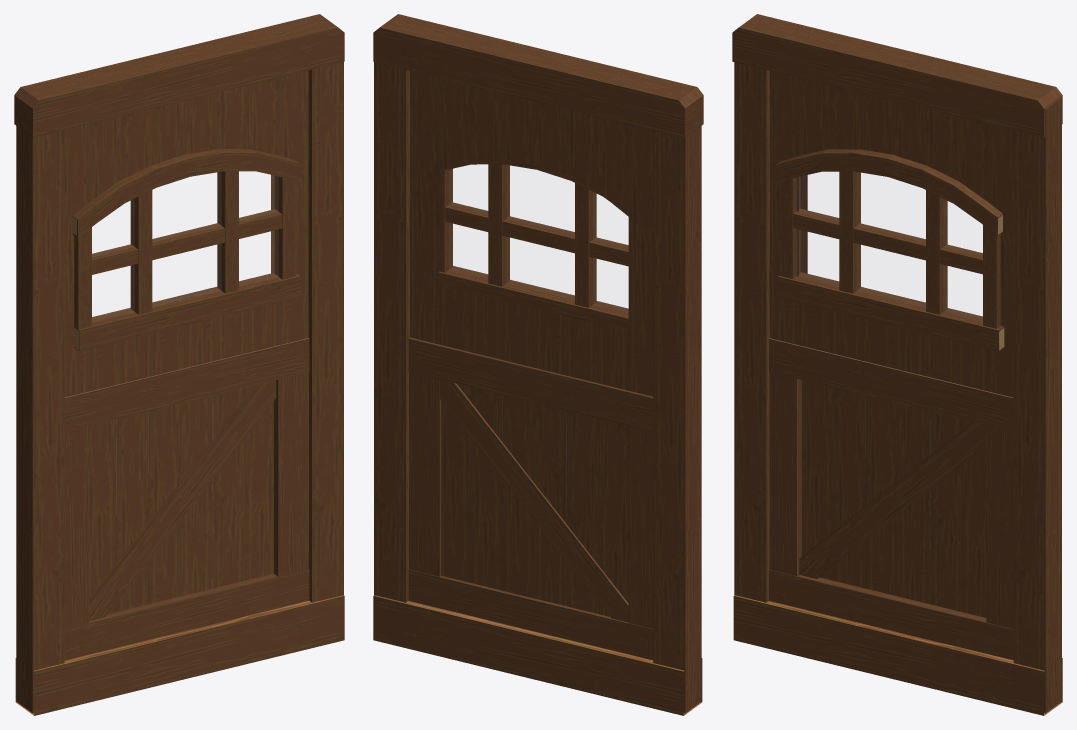
Rendered from Door_1_Flat.gltf.
3 renders of one model, left to right at view 1: azimuth 30°, elevation 25°; view 2: azimuth 150°, elevation 25°; view 3: azimuth 330°, elevation 25°, orthographic.
Parts seen in each view (by area): view 1: Door_1_Flat; view 2: Door_1_Flat; view 3: Door_1_Flat.
Boxes of the visible parts, box(x1,y1,x2,y2) form: Door_1_Flat: box(14, 14, 344, 715); Door_1_Flat: box(373, 14, 703, 715); Door_1_Flat: box(732, 14, 1062, 715).
Size of the model in its own units: 1.12 by 2.1 by 0.1207.
Materials: 2 (1 with a texture image).
